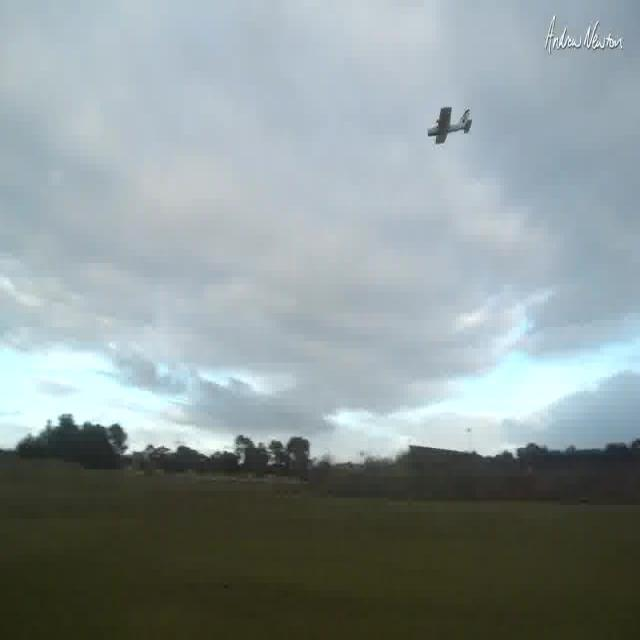iha: (426, 104, 478, 158)
